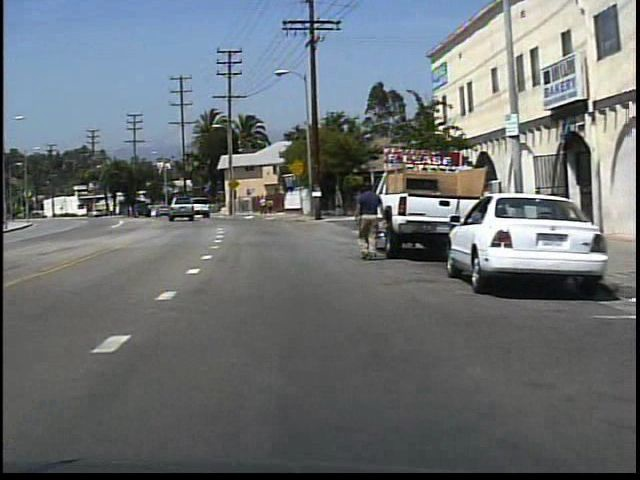person: (349, 181, 390, 263), (257, 194, 267, 216), (266, 196, 276, 215)
